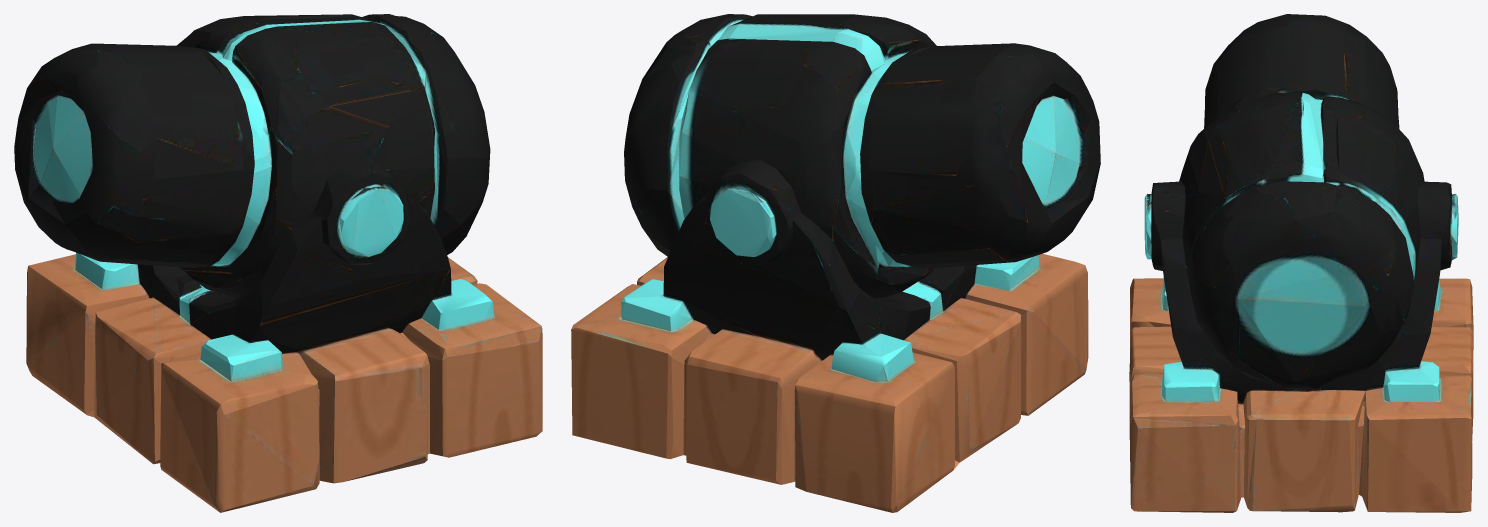
Rendered from cannon.glb.
The picture shows the model from 3 angles, left to right: view 1: azimuth 30°, elevation 25°; view 2: azimuth 150°, elevation 25°; view 3: azimuth 270°, elevation 25°; orthographic projection. The views are drawn at different scales.
Size of the model in its own units: 1.39 by 1.31 by 1.17.
1 material, 1 textured.
